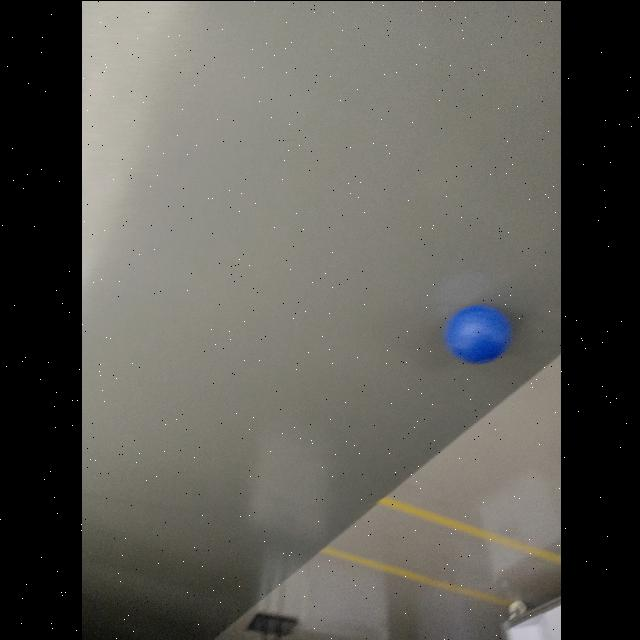B: (443, 303, 509, 363)
